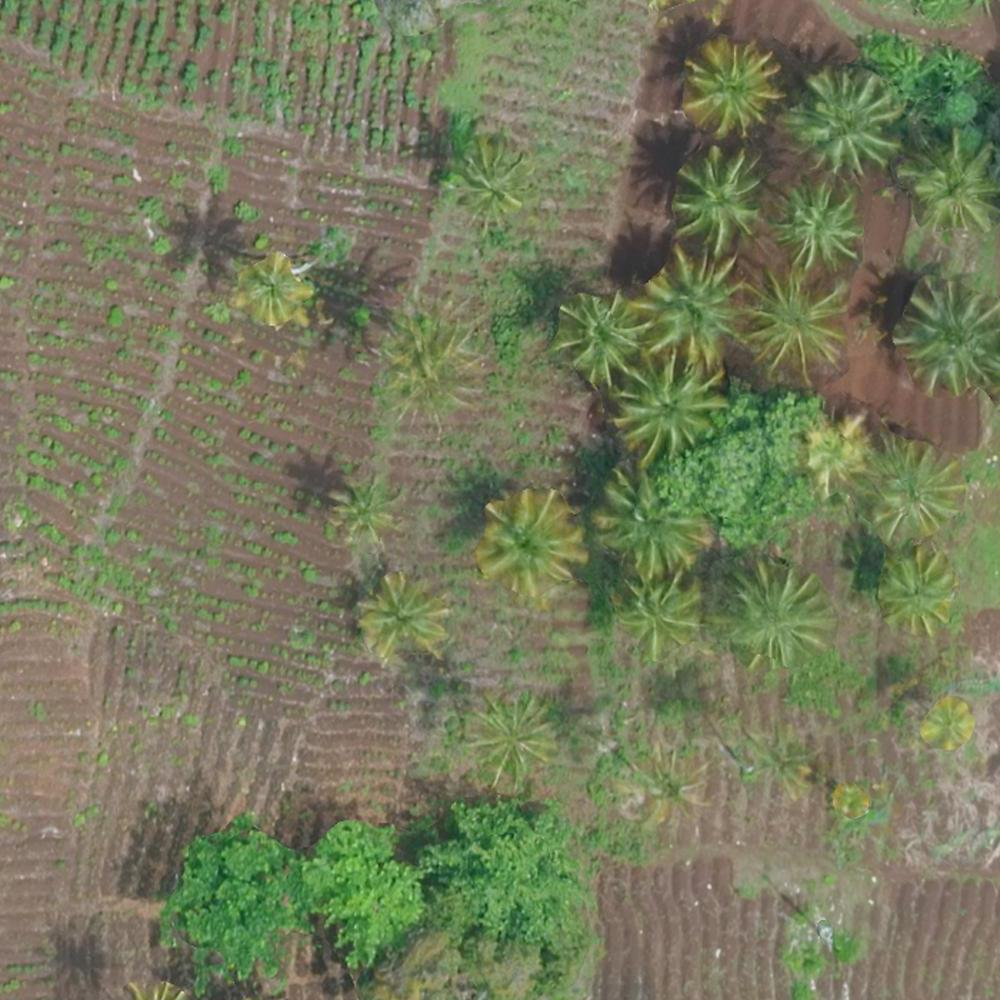not palm: (145, 631, 246, 725), (134, 501, 229, 589), (271, 707, 364, 795), (31, 50, 117, 142), (21, 408, 103, 496), (42, 177, 130, 252), (551, 902, 630, 981), (308, 842, 384, 924), (417, 843, 499, 919), (133, 392, 216, 467), (286, 105, 370, 178), (17, 708, 94, 784), (198, 847, 274, 923), (54, 595, 127, 672), (911, 897, 988, 968), (507, 13, 585, 83), (157, 18, 232, 85)
